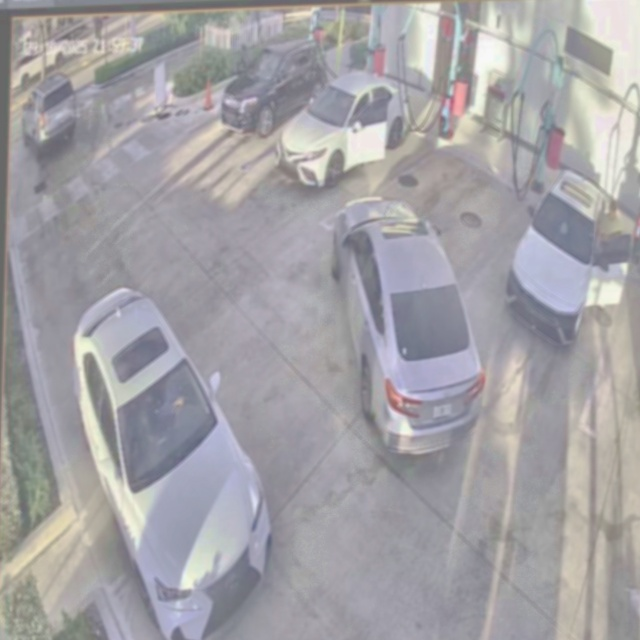Car: (66, 279, 281, 640), (328, 190, 491, 461), (275, 68, 410, 189)
